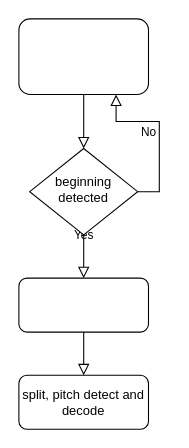
Image size: 189x448. Some labels were removed from this diagram. The shapes that lost their labels are listed below. From the top down, each one's centre as x and y in pixels, then its label:
point 83,56: transmission beginning code detector
point 83,304: record transmission samples
